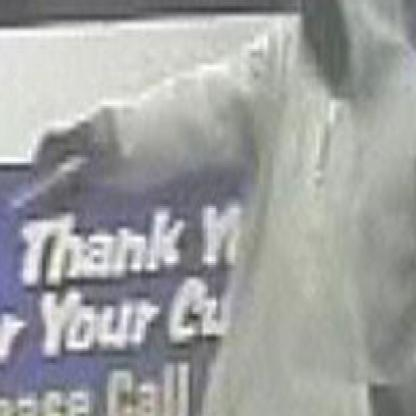gun: (2, 108, 98, 241)
